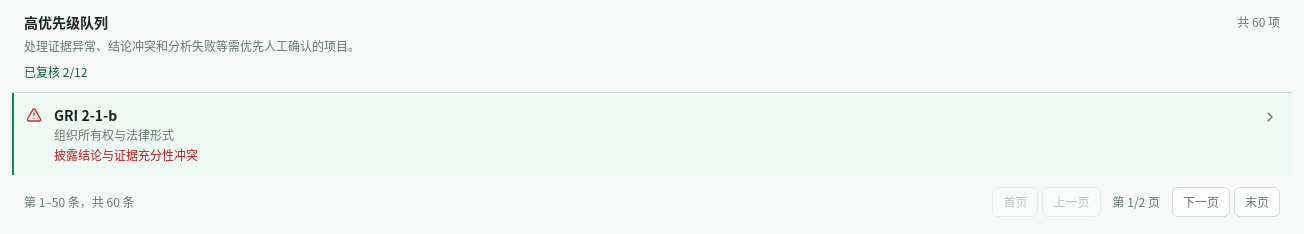
Test case: RiskQueue › shows paginated high-priority requirements with Chinese business reasons
Check: the text "GRI 2-1-b" is shown, box [54,105,117,125]
Check: the heading "高优先级队列" is shown, box [24,12,108,32]
Click the button "下一页": (1201, 202) [1172,187,1230,217]
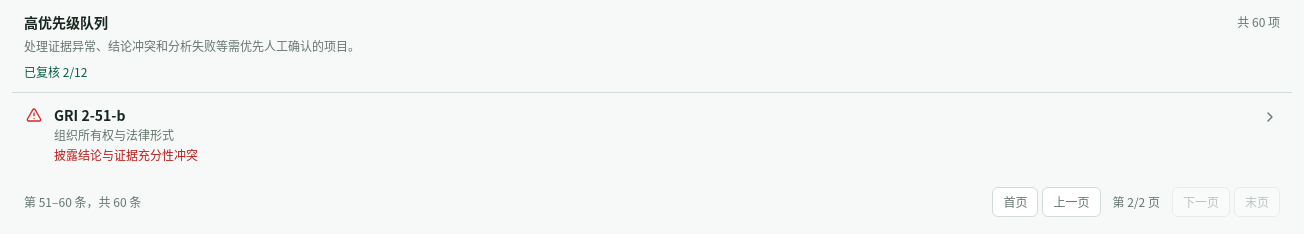
Check: the text "GRI 2-51-b" is shown, box [54,105,126,125]
